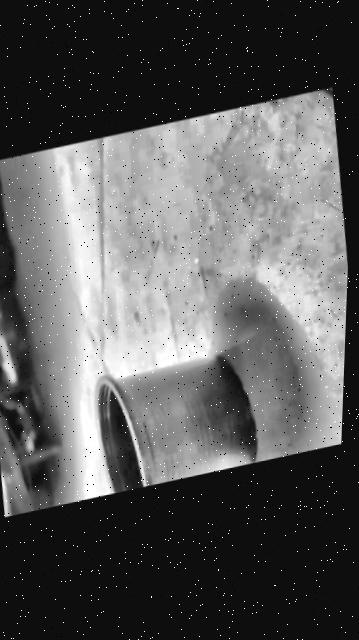pot: (87, 343, 261, 498)
